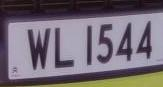1: (80, 20, 99, 71)
4: (115, 15, 136, 70), (134, 15, 155, 67)
5: (93, 19, 117, 69)
L: (51, 20, 76, 72)
W: (26, 23, 53, 74)
